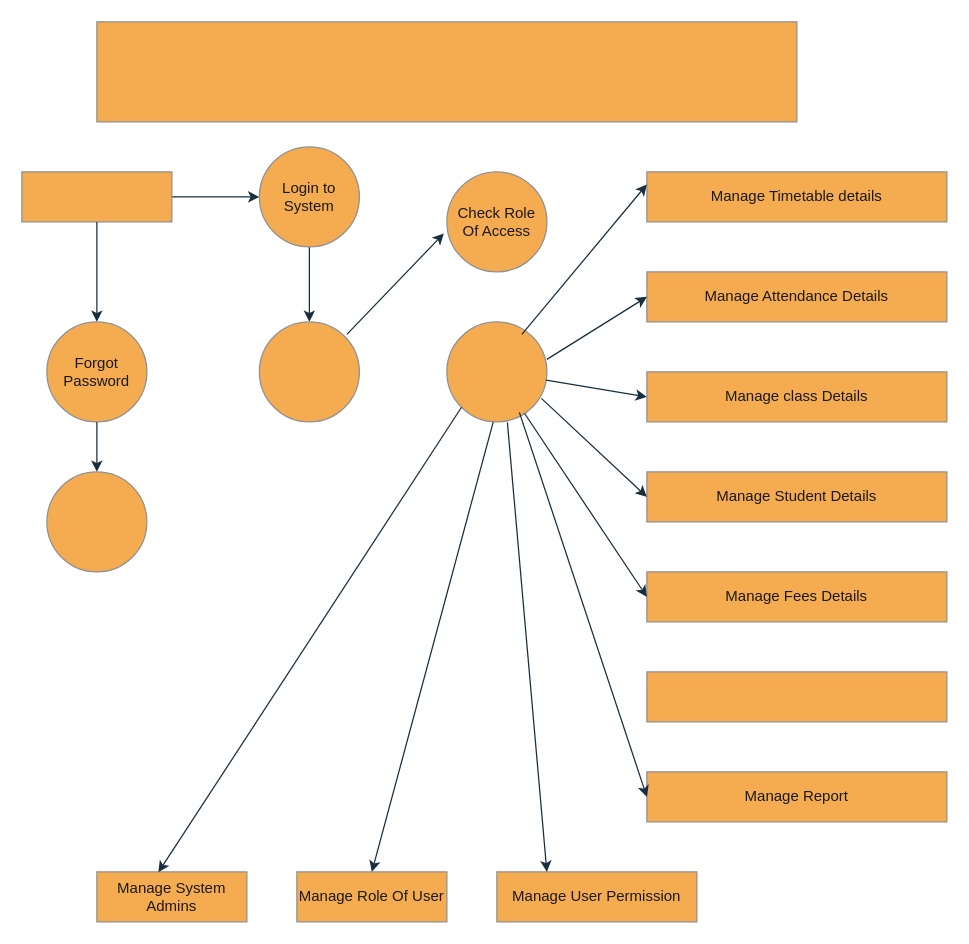
Image size: 969x944. Some labels were removed from this diagram. Here are the shapes that lost their labels. From the top down, the centre of each, then its label:
the point at 446,71: Student Information System
the point at 96,196: Admin
the point at 308,371: Check Credentials
the point at 496,371: Manage Modules
the point at 96,521: Send Email to User
the point at 796,696: Manage Teacher Profiles
